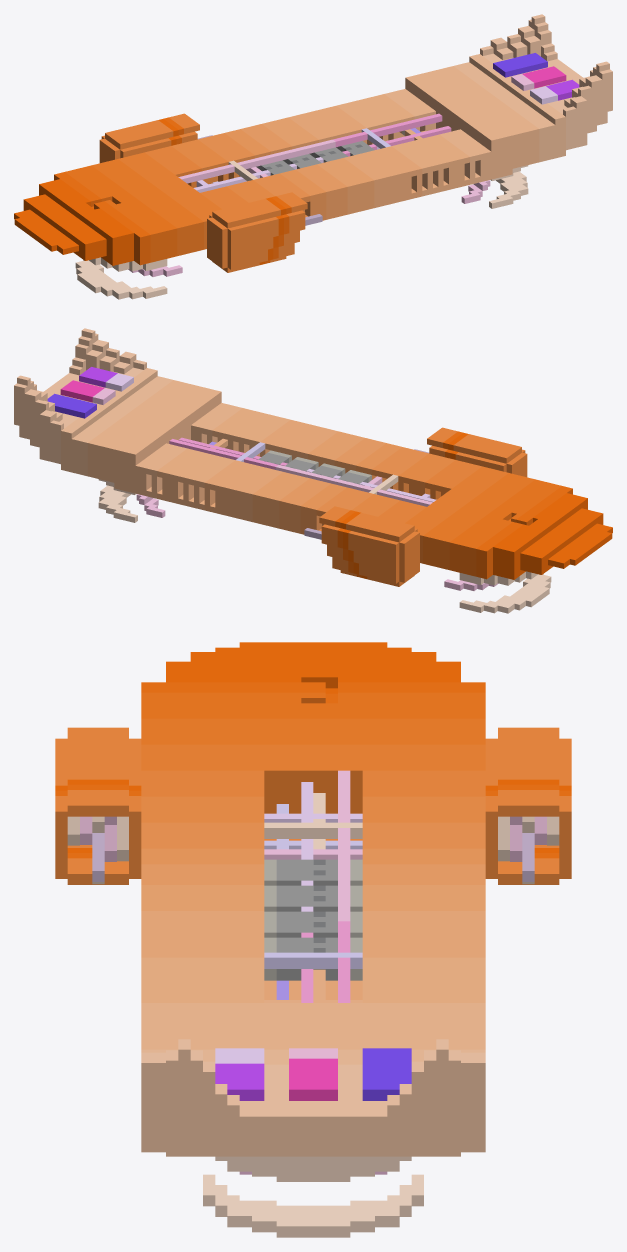
File: hoverboard_00.glb
The picture shows the model from 3 angles, top to bottom: view 1: azimuth 30°, elevation 25°; view 2: azimuth 150°, elevation 25°; view 3: azimuth 270°, elevation 25°; orthographic projection. The views are drawn at different scales.
Parts seen in each view (by area): view 1: lite, thrusters-glass.vox-0, core-emission, thrusters-emission, top emissive.vox-0, core-metal, thrusters-diffuse.vox-0; view 2: lite, thrusters-glass.vox-0, thrusters-emission, core-emission, top emissive.vox-0, core-metal, thrusters-diffuse.vox-0; view 3: lite, thrusters-glass.vox-0, thrusters-emission, core-emission, core-metal, top emissive.vox-0, thrusters emissive.vox-0, thrusters-diffuse.vox-0, board-glass.vox-0.
Boxes of the visible parts, x1,y1,x2,y2 form: lite: [14, 14, 612, 265]; thrusters-glass.vox-0: [99, 113, 307, 272]; core-emission: [178, 113, 451, 192]; thrusters-emission: [75, 165, 528, 299]; top emissive.vox-0: [493, 53, 579, 104]; core-metal: [256, 141, 374, 175]; thrusters-diffuse.vox-0: [158, 117, 291, 264]; lite: [14, 328, 612, 579]; thrusters-glass.vox-0: [319, 427, 527, 586]; thrusters-emission: [98, 479, 551, 613]; core-emission: [169, 437, 436, 506]; top emissive.vox-0: [47, 367, 133, 418]; core-metal: [258, 450, 371, 484]; thrusters-diffuse.vox-0: [335, 431, 468, 578]; lite: [141, 642, 485, 1156]; thrusters-glass.vox-0: [55, 727, 571, 884]; thrusters-emission: [203, 1156, 423, 1237]; core-emission: [264, 770, 362, 1002]; core-metal: [264, 859, 362, 980]; top emissive.vox-0: [215, 1048, 411, 1100]; thrusters emissive.vox-0: [67, 816, 559, 884]; thrusters-diffuse.vox-0: [55, 779, 571, 858]; board-glass.vox-0: [264, 839, 362, 999].
Size of the model in its own units: 10.2 by 2.3 by 4.2.
9 materials, 9 textured.
